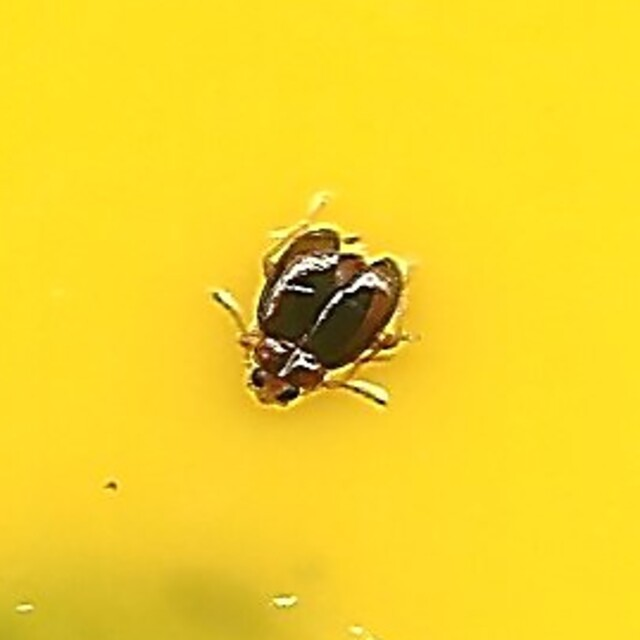Coleoptera: (238, 220, 402, 420)
